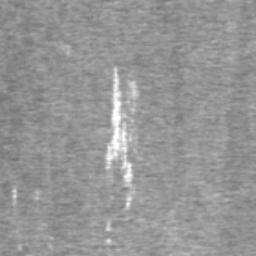White rust: (104, 64, 133, 183), (128, 79, 138, 101), (124, 194, 136, 212), (104, 218, 112, 232), (11, 187, 16, 206)
